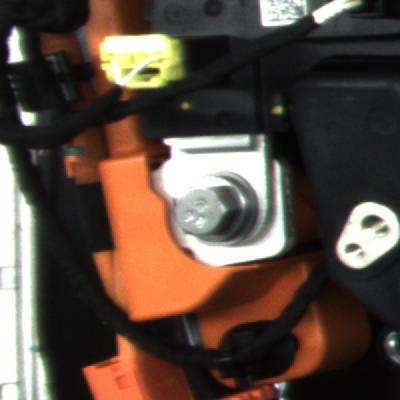nut_b: (171, 171, 275, 258)
